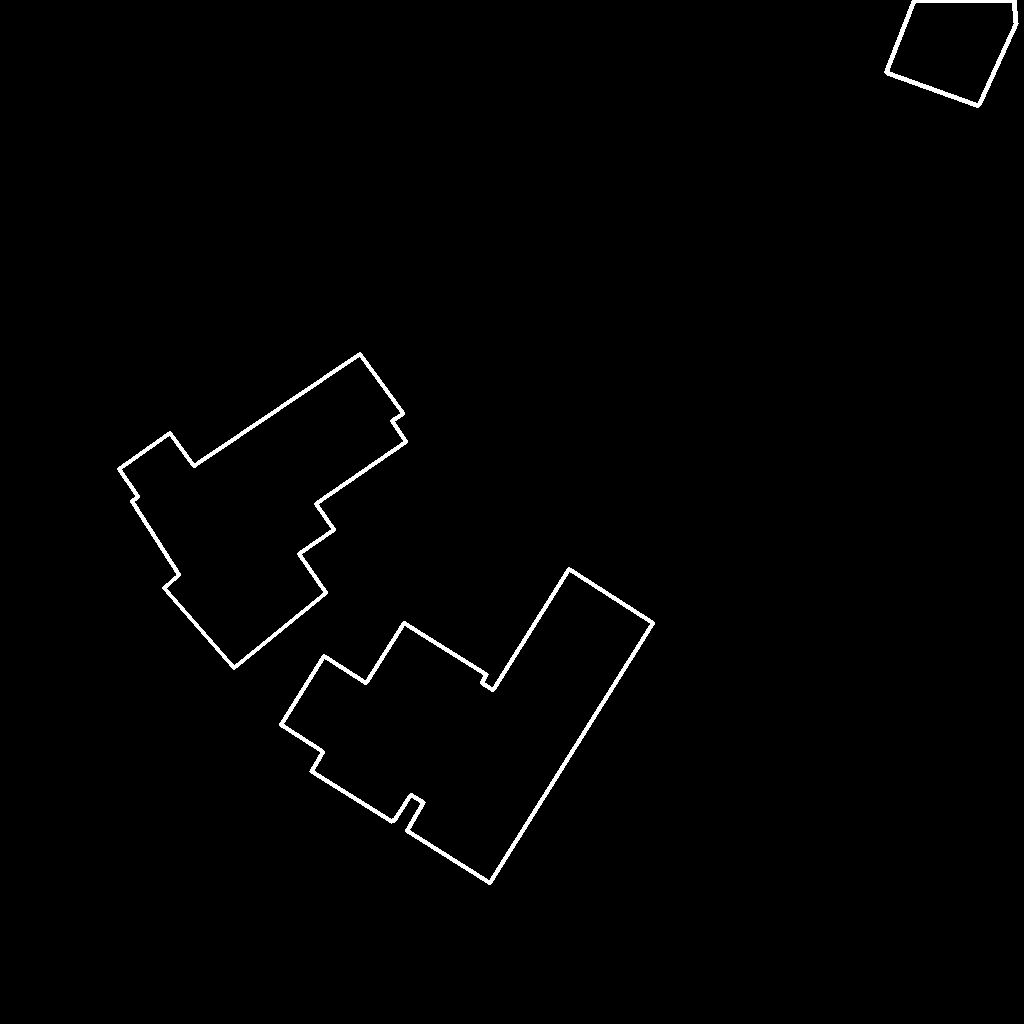building: (281, 569, 654, 884), (119, 354, 407, 669), (886, 0, 1017, 107)
